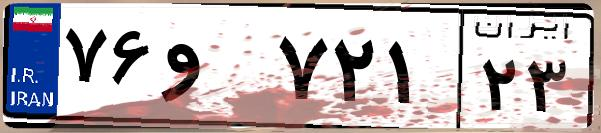1: (385, 28, 445, 110)
2: (330, 28, 385, 110), (475, 38, 525, 113)
3: (525, 38, 570, 115)
6: (110, 28, 158, 98)
7: (270, 28, 330, 110), (57, 26, 110, 100)
و: (158, 20, 270, 120)
